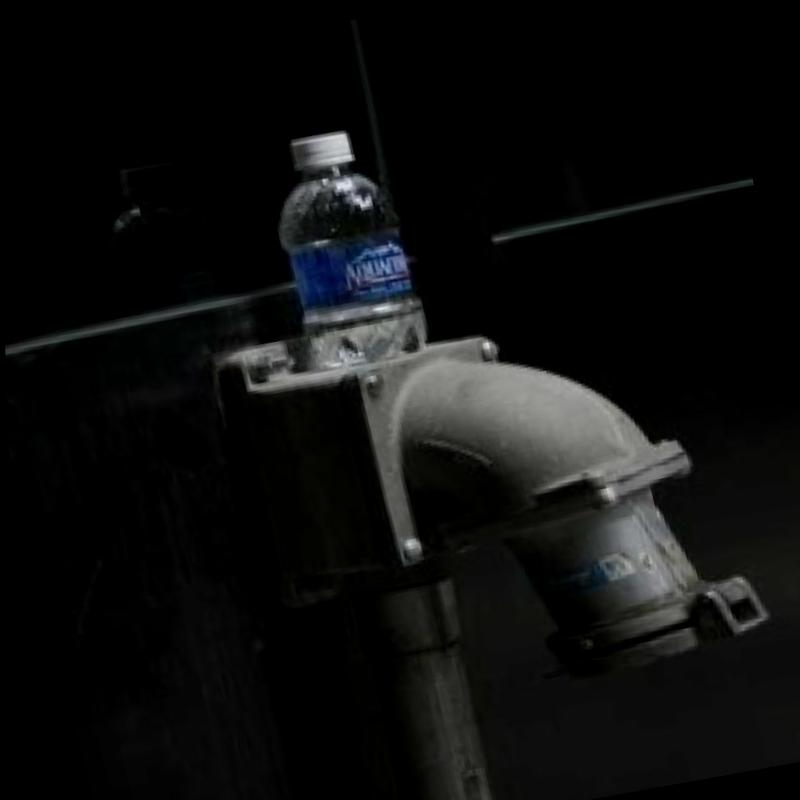botella: (254, 109, 437, 380)
